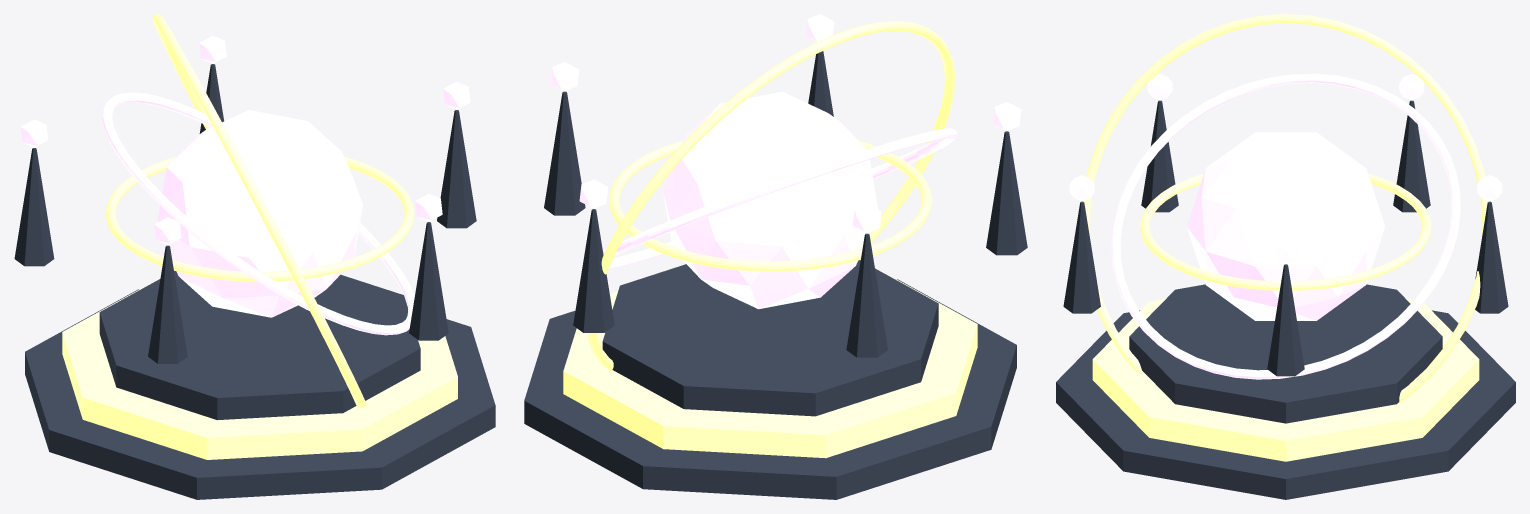
File: gpu-blender-v56.glb
3 views of the same model, side by side, from view 1: azimuth 30°, elevation 25°; view 2: azimuth 150°, elevation 25°; view 3: azimuth 270°, elevation 25° (orthographic). The views are drawn at different scales.
Parts seen in each view (by area): view 1: Cylinder.002, SovereignCore_zoth-ascii-magic, Cylinder, Cylinder.001, Torus.001, Torus.002, Torus, Cone.002, Cone.004, Cone.003, Cone, Icosphere.001 (+5 smaller); view 2: Cylinder.002, SovereignCore_zoth-ascii-magic, Cylinder, Cylinder.001, Torus.002, Torus, Torus.001, Cone.003, Cone.002, Cone, Cone.001, Cone.004 (+5 smaller); view 3: SovereignCore_zoth-ascii-magic, Cylinder.002, Cylinder, Cylinder.001, Torus.001, Torus.002, Torus, Cone, Cone.004, Cone.001, Cone.002, Cone.003 (+5 smaller).
Boxes of the visible parts, x1,y1,x2,y2 form: Cylinder.002: (99,271,420,420); SovereignCore_zoth-ascii-magic: (157,110,362,317); Cylinder: (25,289,495,499); Cylinder.001: (62,279,457,459); Torus.001: (102,92,414,335); Torus.002: (152,14,366,407); Torus: (105,156,414,281); Cone.002: (14,148,54,266); Cone.004: (409,222,448,340); Cone.003: (148,245,187,363); Cone: (437,110,476,228); Icosphere.001: (199,36,226,63); Cylinder.002: (602,260,938,416); SovereignCore_zoth-ascii-magic: (663,91,877,309); Cylinder: (524,279,1016,499); Cylinder.001: (563,269,977,458); Torus.002: (587,20,954,370); Torus: (609,140,932,271); Torus.001: (603,128,957,269); Cone.003: (986,131,1027,255); Cone.002: (846,233,887,357); Cone: (544,91,585,215); Cone.001: (573,209,614,332); Cone.004: (808,51,833,116); SovereignCore_zoth-ascii-magic: (1186,132,1385,320); Cylinder.002: (1129,284,1442,423); Cylinder: (1056,310,1515,499); Cylinder.001: (1092,298,1479,461); Torus.001: (1111,73,1460,379); Torus.002: (1083,14,1488,403); Torus: (1140,173,1431,290); Cone: (1267,264,1304,376); Cone.004: (1063,201,1100,313); Cone.001: (1475,201,1508,313); Cone.002: (1393,100,1430,212); Cone.003: (1141,100,1178,212).
Size of the model in its own units: 4.41 by 3.72 by 4.4.
